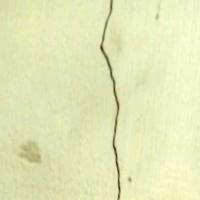crack: (83, 0, 146, 199)
